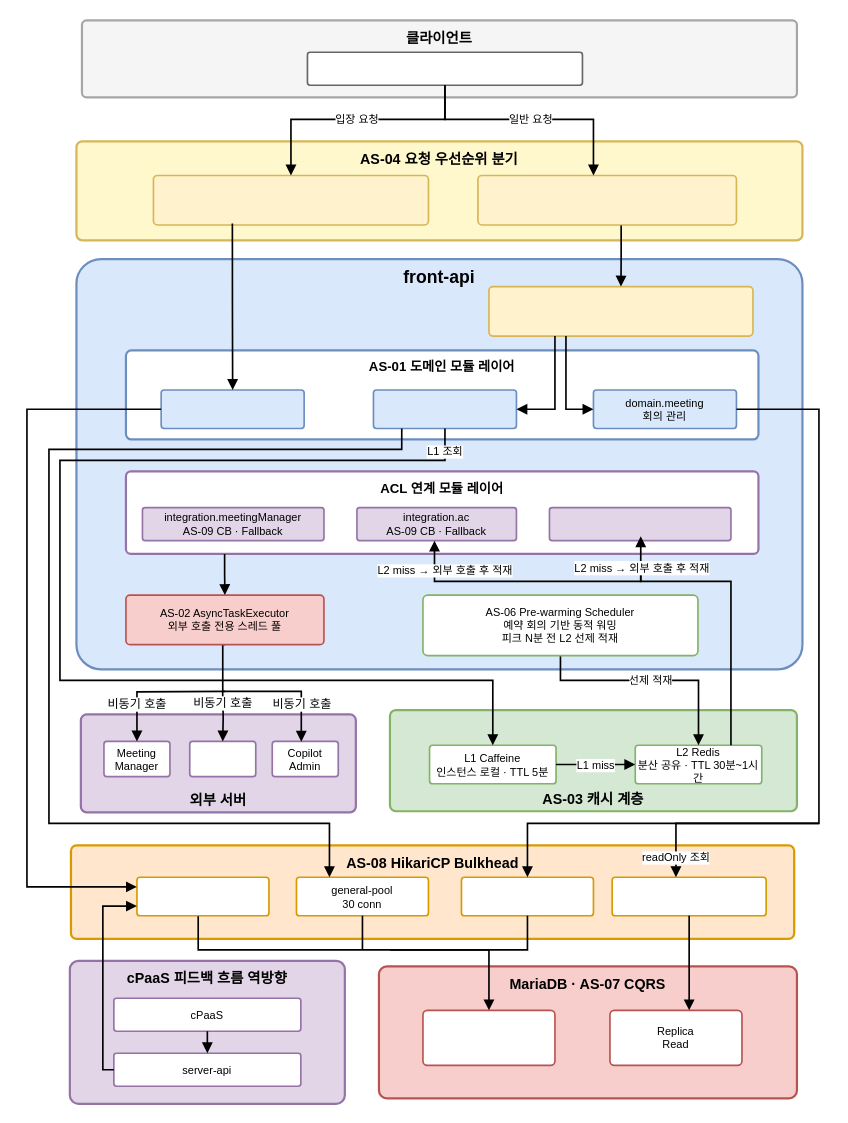
Some shapes in this 848 by 1123 pixel diagram are drawn without their labels. Here are the shapes that lost their labels. From the top down, the centre of each, then its label:
the point at 444,68: 미팅 웹포탈 · 모바일 앱
the point at 290,199: 입장 전용 Connector port 8081 · 전용 스레드 풀 /join · /conference-token
the point at 607,199: 일반 Connector port 8080 조회 · 권한 갱신 · 관리
the point at 620,310: AS-05 Throttling Filter 피크 구간 중 비핵심 API 처리량 제한
the point at 232,409: domain.entry 입장 처리
the point at 444,409: domain.auth 권한 갱신
the point at 639,523: integration.copilot AS-09 CB · Fallback
the point at 222,758: AC서버
the point at 202,896: join-pool 50 conn
the point at 527,896: service-pool 30 conn
the point at 688,896: query-pool Read 전용 30 conn
the point at 488,1037: Primary Write
